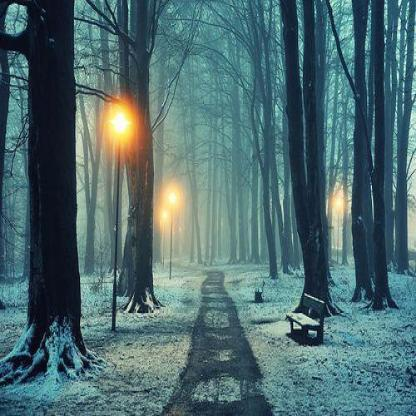other: (94, 88, 145, 148), (152, 172, 183, 228), (327, 186, 348, 221)
